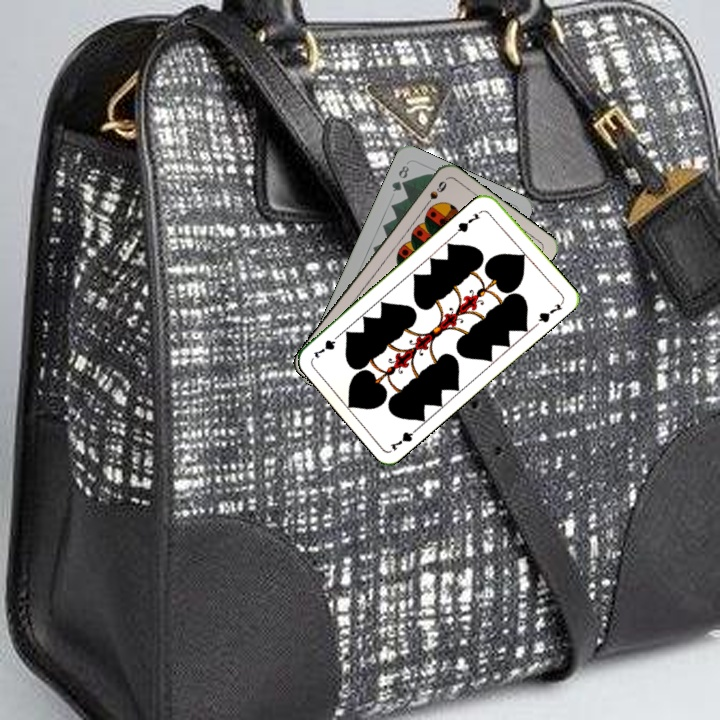G7: (386, 422, 423, 453), (452, 209, 483, 237)
G8: (388, 161, 412, 194)
S9: (420, 177, 450, 211)
